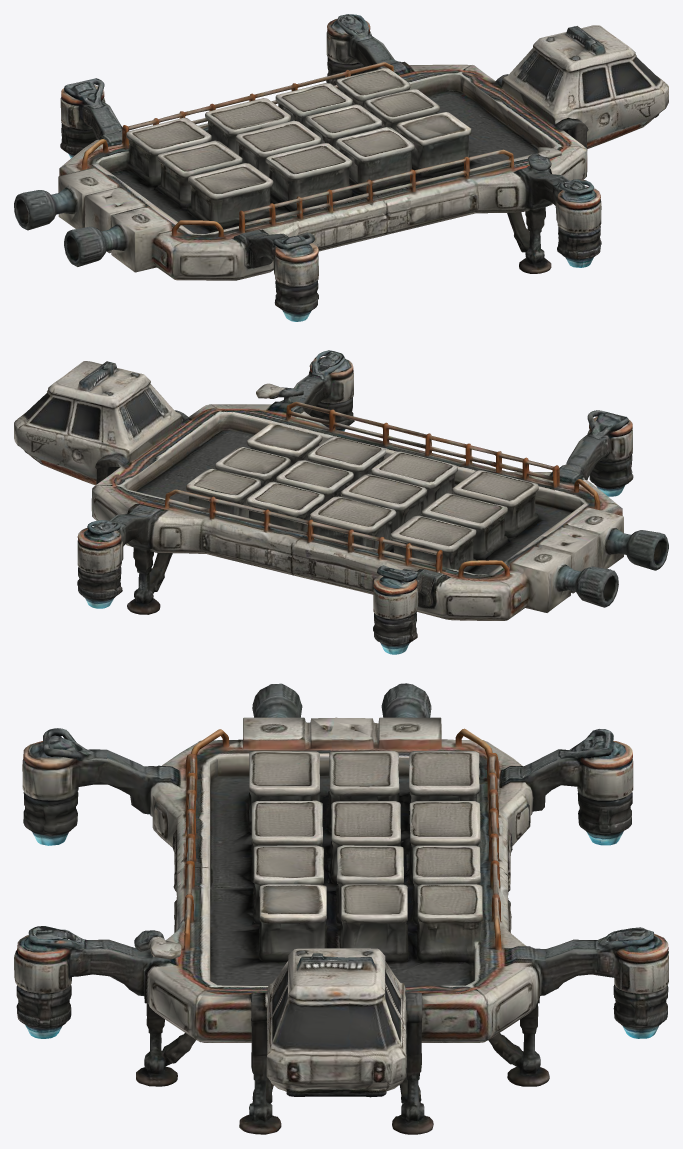
File: atlas.glb
3 views of the same model, one above another, from view 1: azimuth 30°, elevation 25°; view 2: azimuth 150°, elevation 25°; view 3: azimuth 270°, elevation 25° (orthographic). The views are drawn at different scales.
Visible parts, largest first — view 1: tripo_node_b60fb33e-8e0b-42bb-986c-d64680d55429; view 2: tripo_node_b60fb33e-8e0b-42bb-986c-d64680d55429; view 3: tripo_node_b60fb33e-8e0b-42bb-986c-d64680d55429.
Part boxes in pixels (x1,y1,x2,y2): tripo_node_b60fb33e-8e0b-42bb-986c-d64680d55429: [14, 14, 668, 321]; tripo_node_b60fb33e-8e0b-42bb-986c-d64680d55429: [14, 350, 668, 654]; tripo_node_b60fb33e-8e0b-42bb-986c-d64680d55429: [14, 683, 668, 1134].
Size of the model in its own units: 0.9998 by 0.2429 by 0.7288.
Materials: 1 (1 with a texture image).
